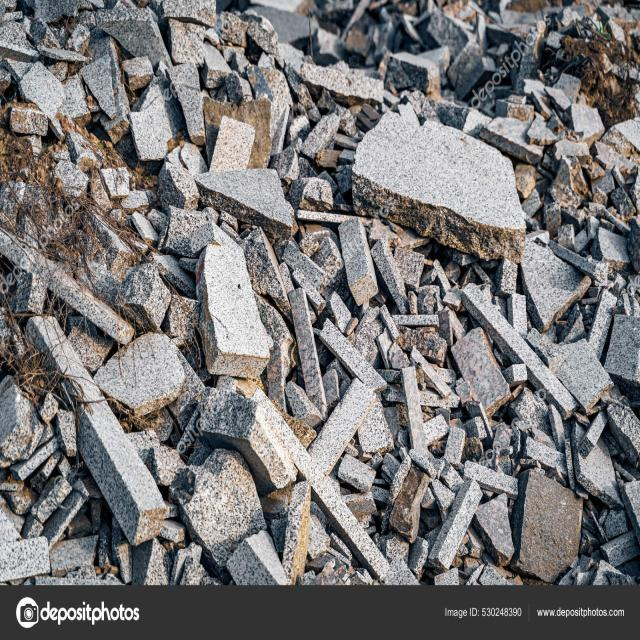Pecahan Agregat: (350, 85, 572, 295), (14, 298, 164, 548), (145, 7, 317, 207), (428, 246, 590, 419), (177, 219, 299, 408), (327, 292, 440, 448), (178, 369, 305, 462), (184, 470, 290, 562), (504, 462, 553, 542)
